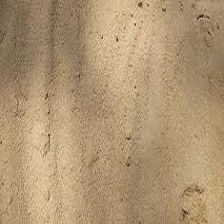sandy_soil: (10, 19, 218, 203)
